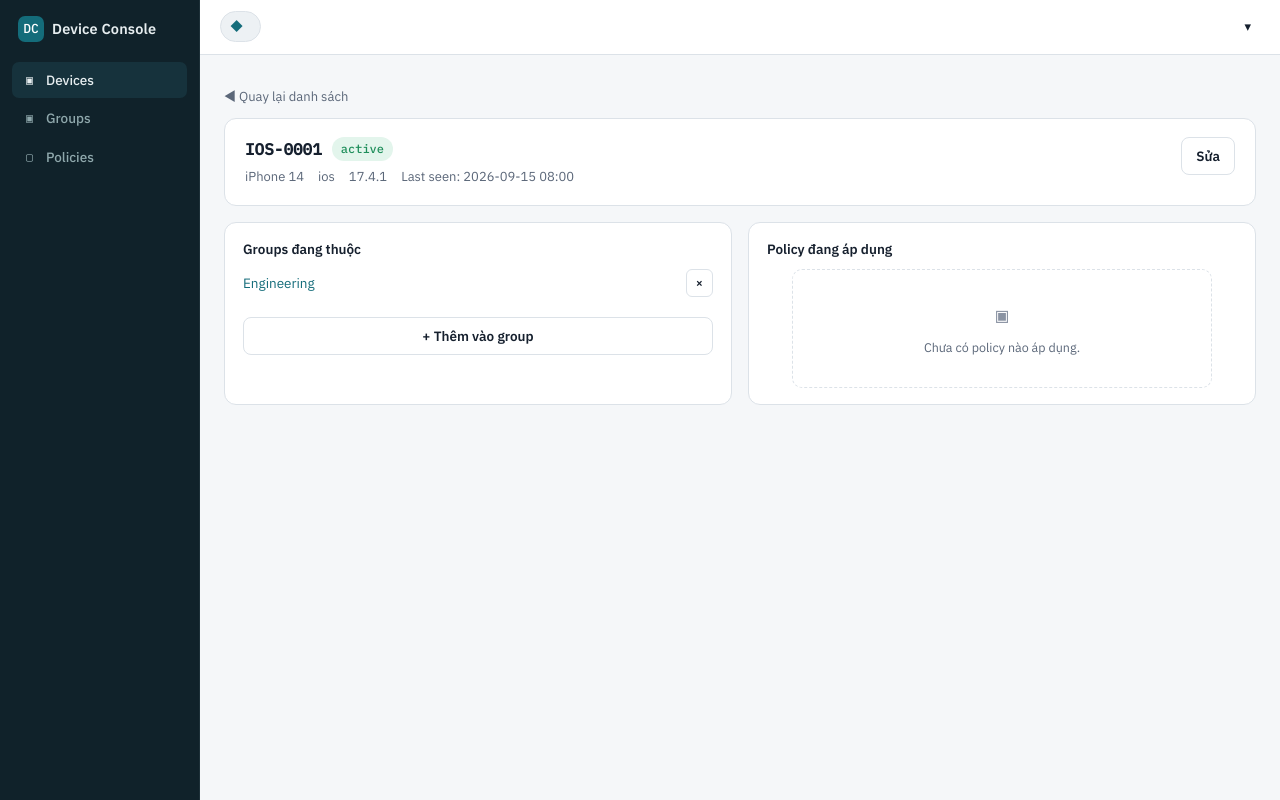
DeviceDetailView › groups block (F6) › toasts and does NOT refetch on a 422 — the group link genuinely still exists
Click the button with test id "device-detail-group-remove-button".
click(699, 283)  # box [686,269,713,297]
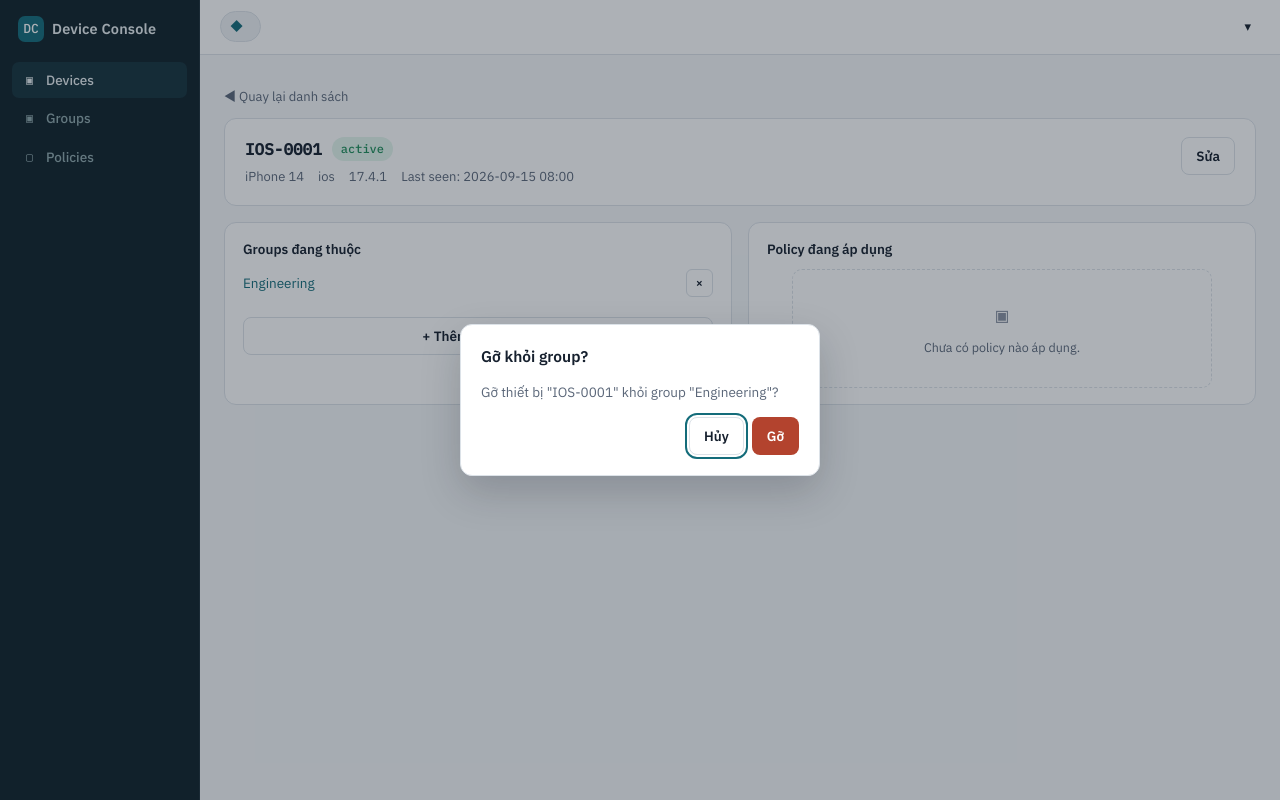
Click the button with test id "confirm-modal-confirm".
click(775, 436)  # box [752,417,799,455]
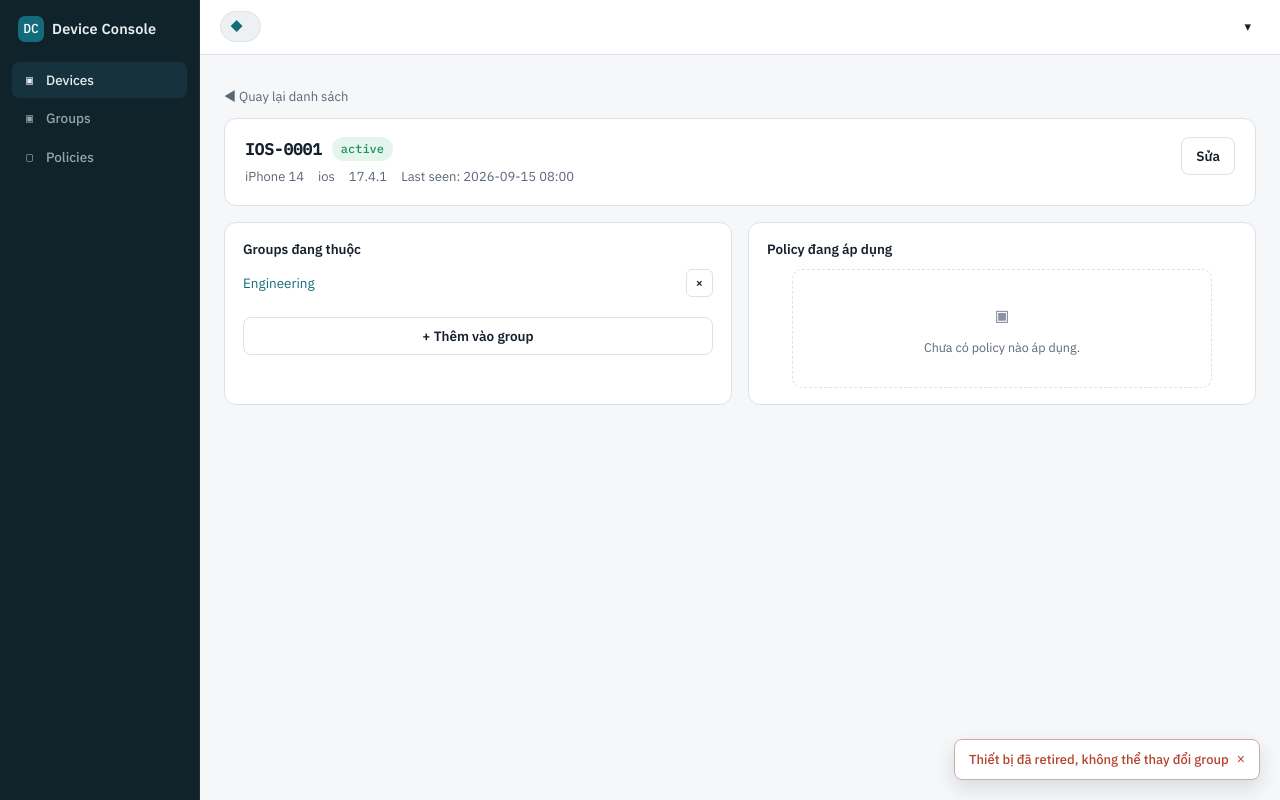
Check: the number of list items with test id "device-detail-group-row" is 1, box [243,269,713,297]
Check: the element with test id "toast" shows "Thiết bị đã retired, không thể thay đổi group", box [969,750,1229,768]
